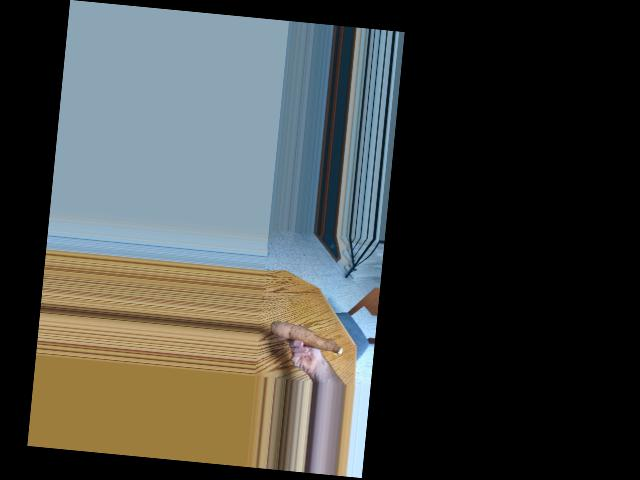sweet_potato: (270, 316, 344, 359)
